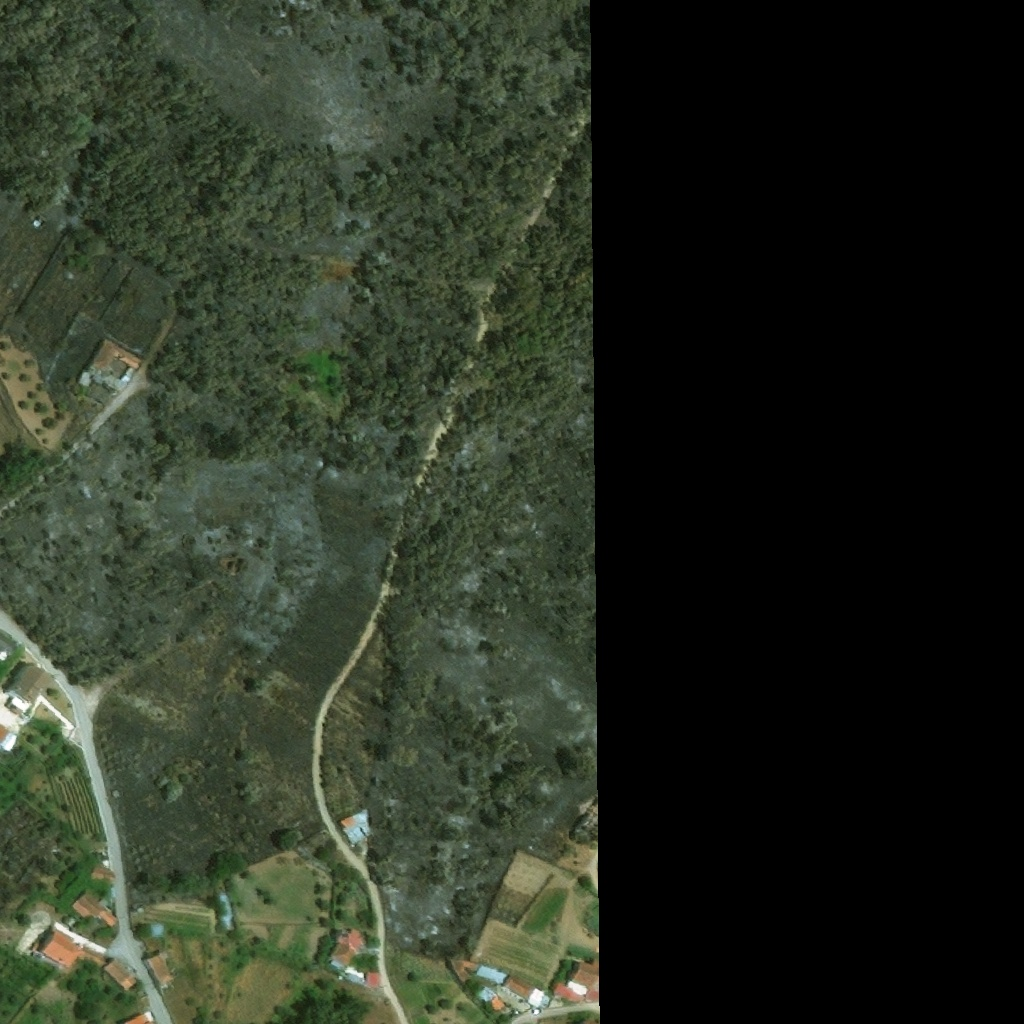0 no-damage: (4, 665, 56, 720), (552, 960, 605, 1007), (323, 927, 369, 974), (71, 890, 120, 931), (76, 367, 137, 399), (37, 932, 85, 970), (88, 342, 142, 375), (336, 807, 375, 848), (102, 959, 138, 992), (143, 953, 174, 987), (447, 960, 479, 987), (504, 977, 534, 1001), (474, 965, 508, 986), (0, 634, 18, 664), (90, 868, 114, 883), (528, 989, 546, 1008), (477, 988, 495, 1004), (488, 998, 505, 1014), (346, 975, 365, 988), (365, 975, 379, 990), (150, 925, 166, 937), (32, 221, 41, 230)
3 destroyed: (573, 795, 603, 843)
4 un-classified: (123, 1013, 158, 1023), (0, 726, 10, 747)
